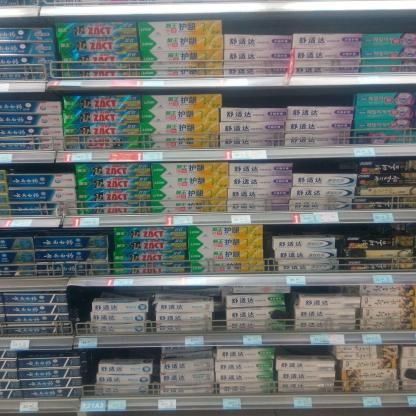Void: (226, 17, 416, 31), (226, 88, 352, 102), (269, 226, 386, 235), (66, 289, 89, 329), (292, 159, 354, 173), (275, 345, 335, 357), (90, 350, 158, 359), (9, 166, 72, 172)
